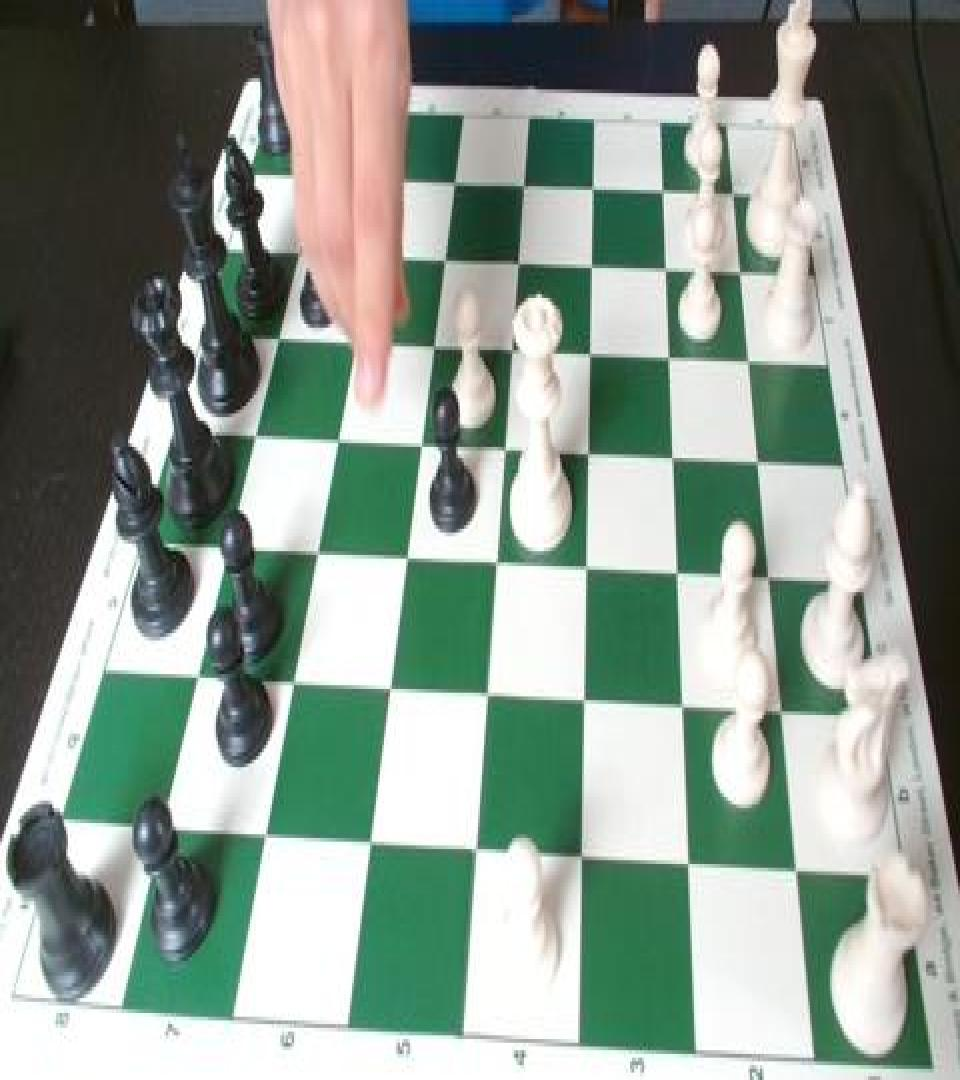xcorner: (252, 810, 276, 855), (566, 832, 590, 877), (782, 849, 806, 894), (279, 659, 303, 704), (471, 672, 495, 717), (667, 683, 691, 728), (214, 525, 238, 570), (481, 540, 505, 585), (662, 551, 686, 596), (240, 413, 264, 458), (322, 417, 346, 462), (573, 430, 597, 475), (340, 320, 364, 365), (417, 324, 441, 369), (654, 335, 678, 380), (502, 240, 526, 285), (576, 244, 600, 289), (369, 158, 393, 203), (438, 160, 462, 205), (507, 162, 531, 207), (150, 803, 174, 847), (355, 818, 379, 862), (460, 825, 484, 869), (673, 842, 697, 886), (185, 654, 209, 698), (375, 665, 399, 709), (569, 678, 593, 722), (767, 691, 791, 735), (302, 531, 326, 575), (391, 535, 415, 579), (571, 546, 595, 590), (755, 555, 779, 599), (405, 423, 429, 467), (489, 427, 513, 471), (658, 436, 682, 480), (744, 440, 768, 484), (263, 317, 287, 361), (496, 328, 520, 372), (575, 332, 599, 376), (735, 339, 759, 383), (283, 231, 307, 275), (355, 235, 379, 279), (428, 237, 452, 281), (651, 246, 675, 290), (726, 250, 750, 294), (300, 155, 324, 199), (578, 166, 602, 210), (648, 168, 672, 212), (719, 170, 743, 214)
